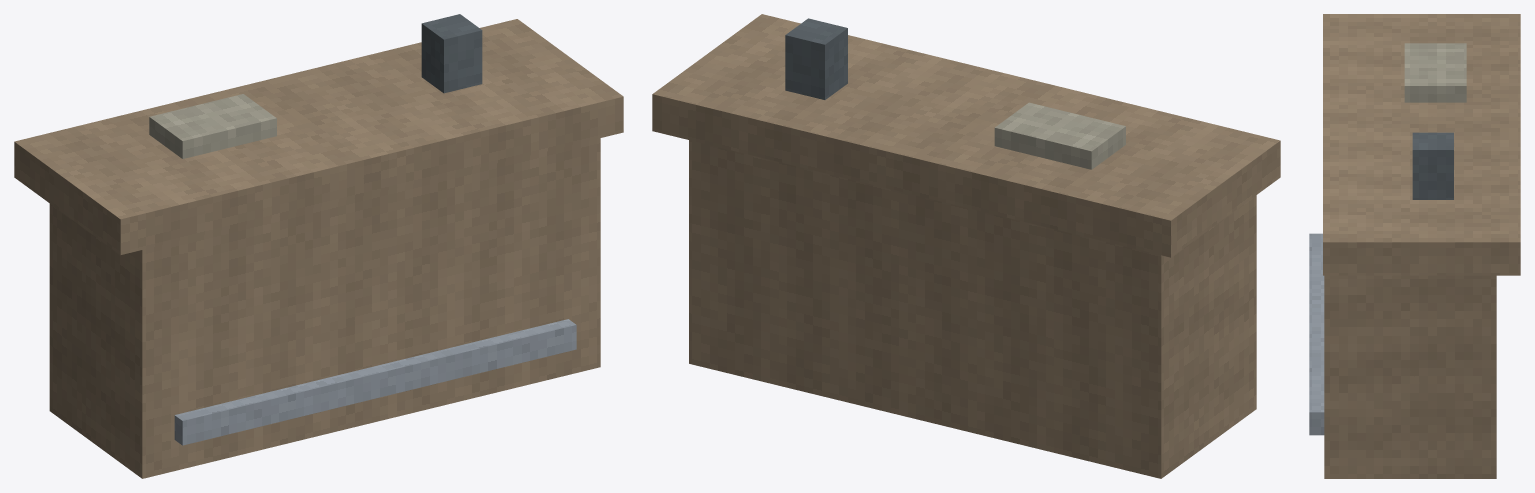
Rendered from level_blockout_motel_reception_counter.glb.
The picture shows the model from 3 angles, left to right: view 1: azimuth 30°, elevation 25°; view 2: azimuth 150°, elevation 25°; view 3: azimuth 270°, elevation 25°; orthographic projection. The views are drawn at different scales.
Visible parts, largest first — view 1: level_blockout_motel_reception_counter; view 2: level_blockout_motel_reception_counter; view 3: level_blockout_motel_reception_counter.
Boxes of the visible parts, x1,y1,x2,y2 form: level_blockout_motel_reception_counter: [14, 14, 623, 478]; level_blockout_motel_reception_counter: [652, 14, 1280, 478]; level_blockout_motel_reception_counter: [1309, 14, 1520, 478].
Bounding box in the file's own units: 2.35 × 1.43 × 0.92.
Materials: 4 (4 with a texture image).
